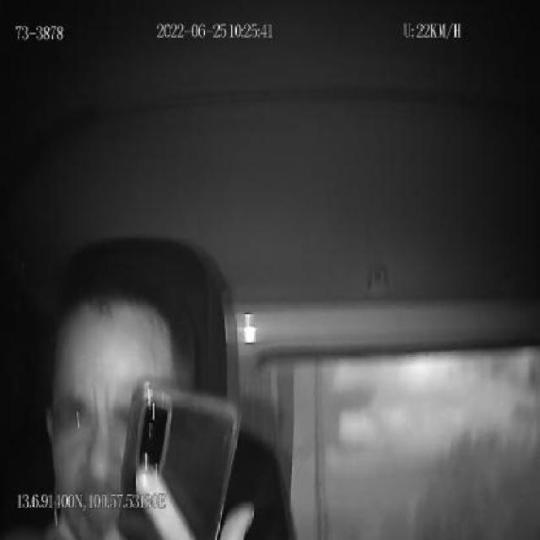phone: (117, 381, 242, 540)
